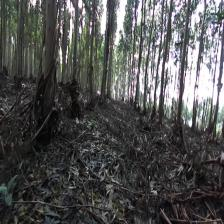trunk: (39, 4, 56, 118), (176, 10, 191, 122), (159, 27, 170, 122), (69, 9, 79, 93), (88, 8, 96, 102), (143, 38, 151, 113)
